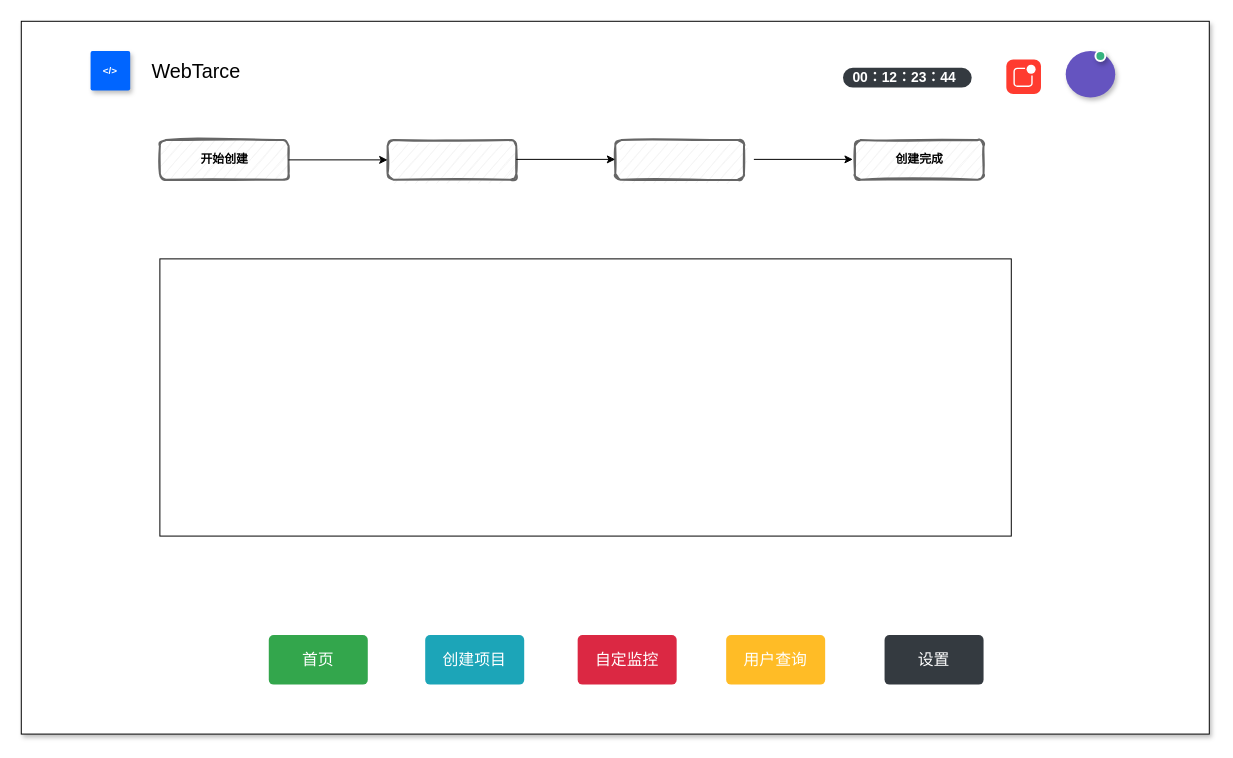
This 1233x758 diagram has some shape labels left out. The shapes that lost their labels are listed below. From the top down, each one's centre as x and y in pixels, then its label:
[1091,75]: MM
[451,159]: 手册阅读
[679,159]: 配置信息填写
[585,397]: 内容展示区
